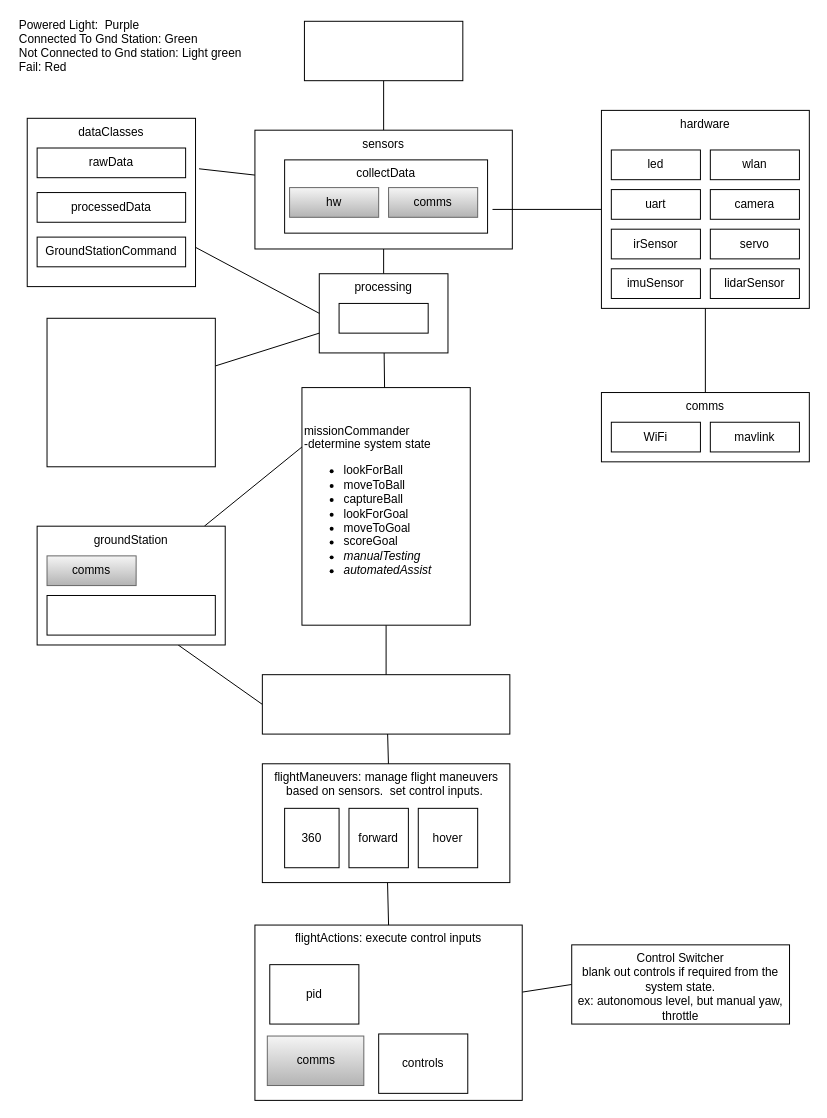
Image size: 827x1118. Some labels were removed from this diagram. The shapes that lost their labels are listed below. From the top down, each one's centre as x and y in pixels, then its label:
(x=383, y=50): Main
(x=383, y=317): parse sensor data
(x=130, y=392): image processing
(x=130, y=614): sendStatus/getCommands
(x=385, y=704): flightDirector: manage flight maneuvers based on system state.
